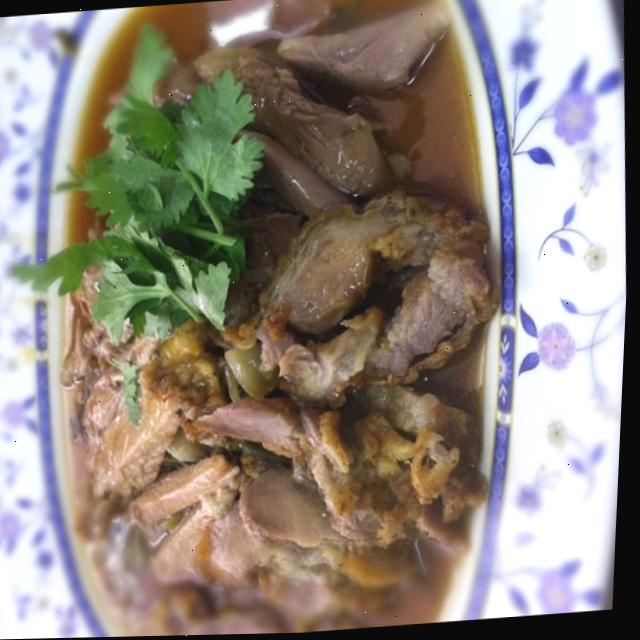猪肉菜式: (0, 0, 601, 619)
